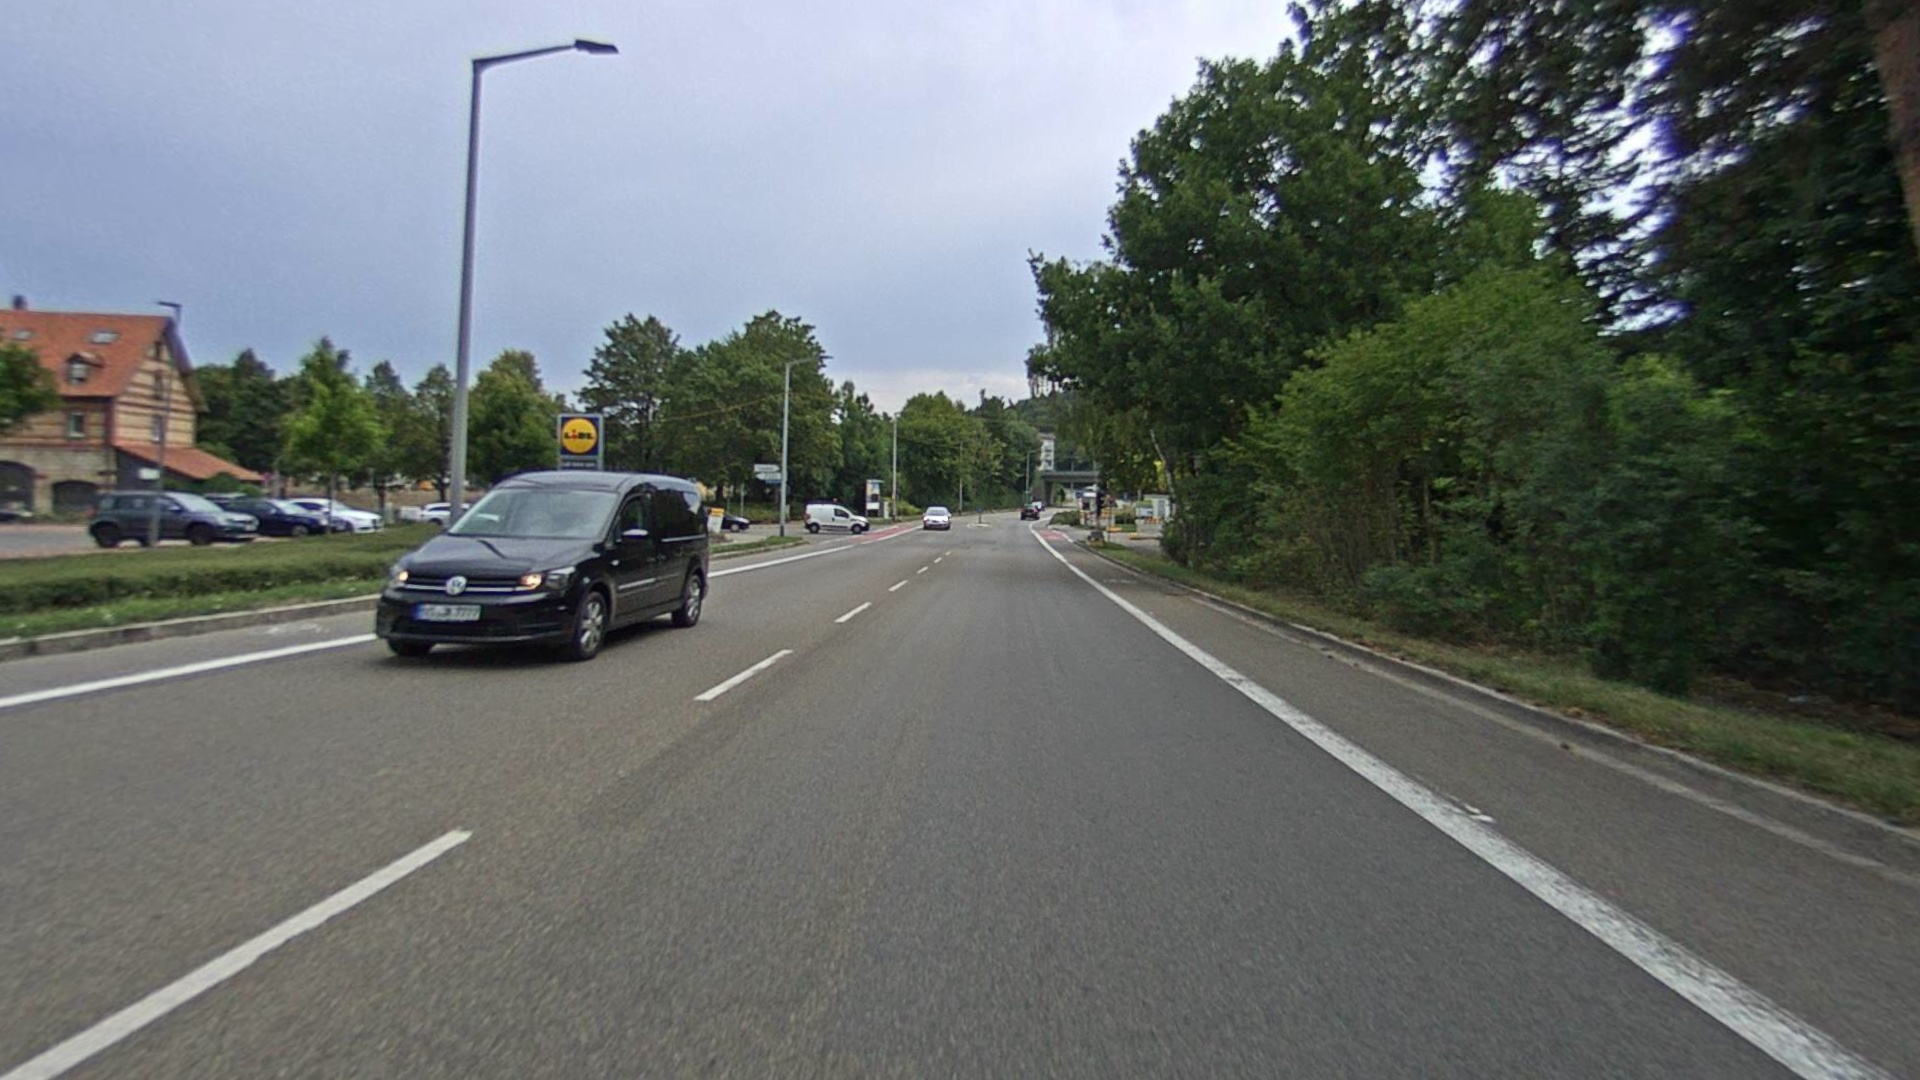car: (371, 467, 715, 665)
